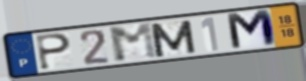1: (200, 16, 222, 52)
2: (79, 29, 112, 67)
M: (224, 7, 280, 52), (106, 21, 163, 64), (147, 18, 199, 59)
P: (35, 32, 74, 71)
